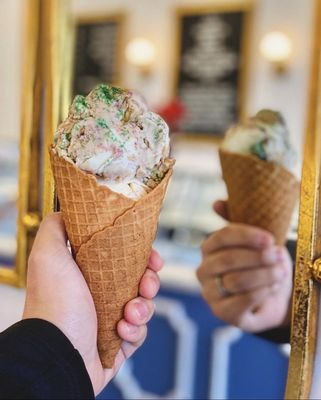pizza: (2, 79, 301, 399)
